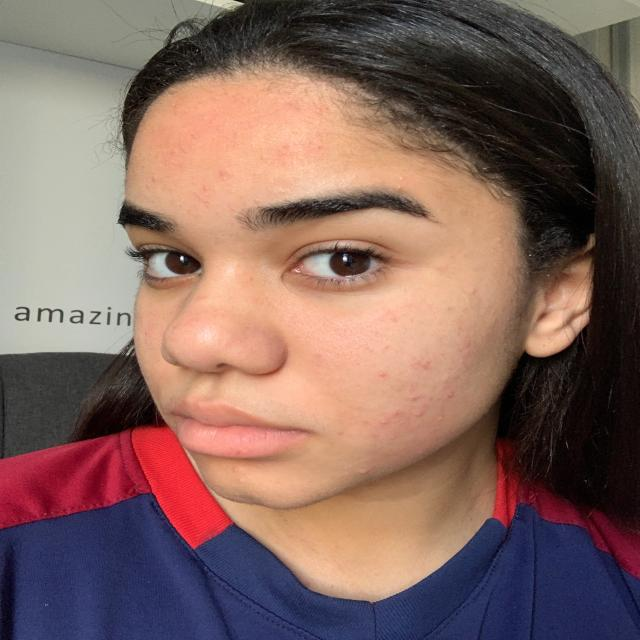Acne: (190, 186, 217, 207), (414, 355, 441, 372), (227, 466, 250, 483), (167, 143, 194, 157), (384, 309, 404, 326), (393, 173, 411, 191), (170, 104, 186, 120), (469, 284, 486, 299), (355, 467, 374, 480), (444, 390, 460, 405), (214, 166, 230, 180), (309, 144, 331, 154), (335, 428, 353, 440), (462, 340, 474, 358), (413, 407, 430, 419), (381, 342, 398, 353), (436, 409, 448, 424), (374, 369, 390, 380), (247, 194, 264, 204), (367, 432, 382, 443), (207, 95, 225, 104), (275, 155, 291, 165), (280, 140, 293, 152), (405, 392, 419, 403), (319, 104, 333, 115), (189, 133, 203, 144), (147, 173, 163, 182), (426, 394, 439, 405), (222, 123, 236, 133), (442, 304, 459, 312), (437, 348, 450, 358), (384, 434, 400, 442), (438, 376, 452, 385), (198, 112, 210, 122), (392, 408, 401, 421), (376, 419, 390, 426), (410, 424, 424, 431), (252, 100, 261, 107)
Blackheads: (169, 323, 226, 353)
Englarged-Pores: (290, 312, 374, 366)
